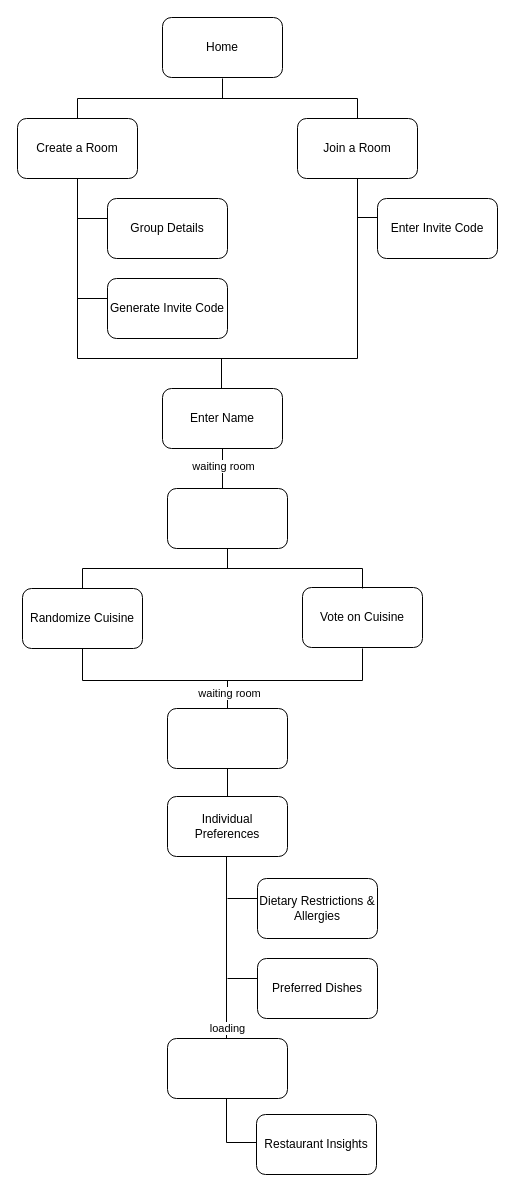
Image size: 515x1192. Some labels were removed from this diagram. Here are the shapes that lost their labels. From the top down, the centre of each, then its label:
At pixel 227 518: "Cuisine".
At pixel 227 738: "Display Top Cuisines".
At pixel 227 1068: "Restaurant Results".
